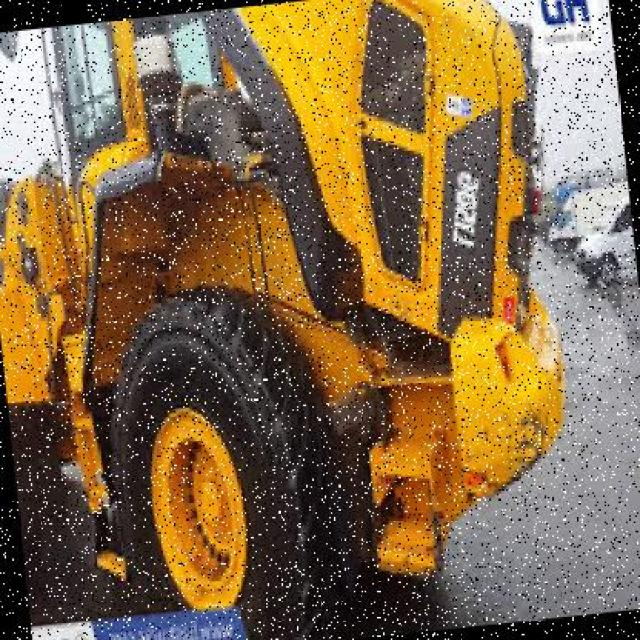buldozerpayloadergrader: (0, 0, 580, 622)
